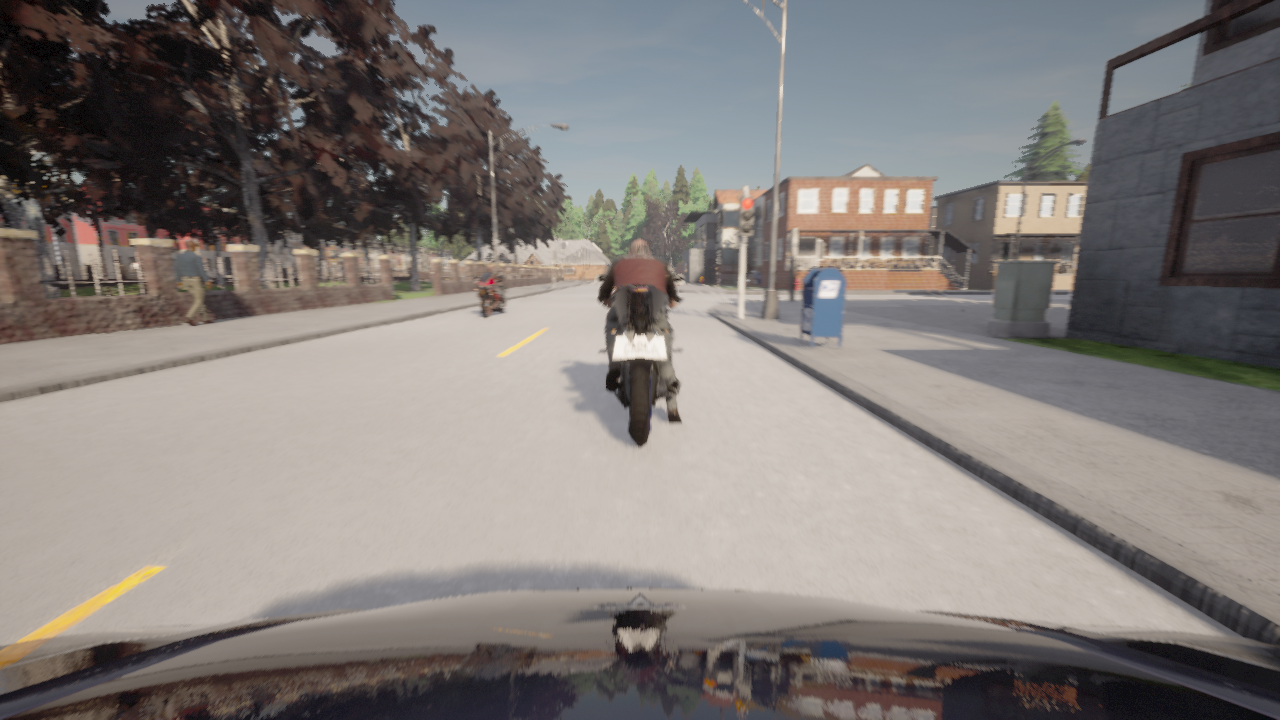cyclist: (0, 588, 1279, 719), (596, 275, 683, 447), (471, 273, 508, 318), (421, 275, 424, 280), (447, 278, 448, 280)
pedestrian: (173, 240, 213, 326)
